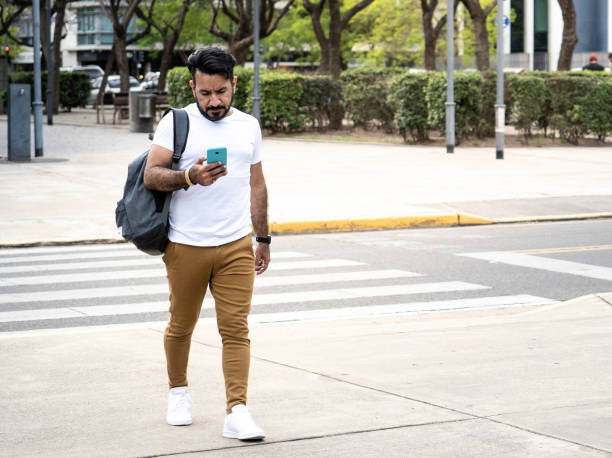yaya: (108, 43, 305, 431)
